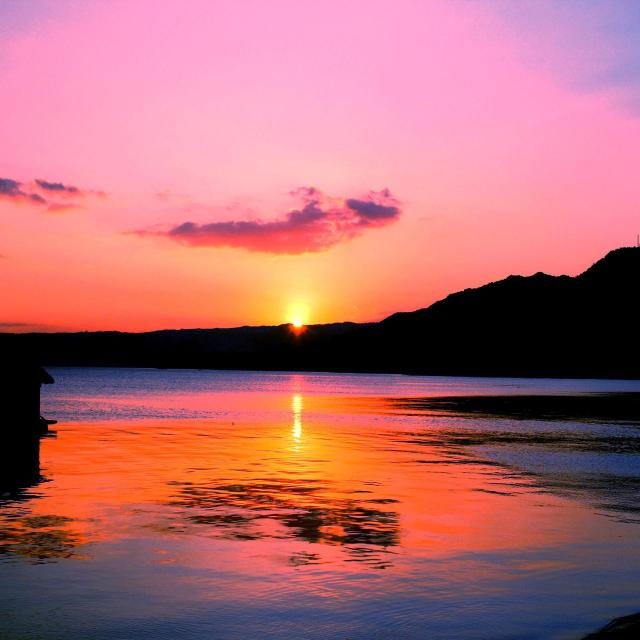other: (283, 382, 315, 460), (280, 290, 318, 332)
